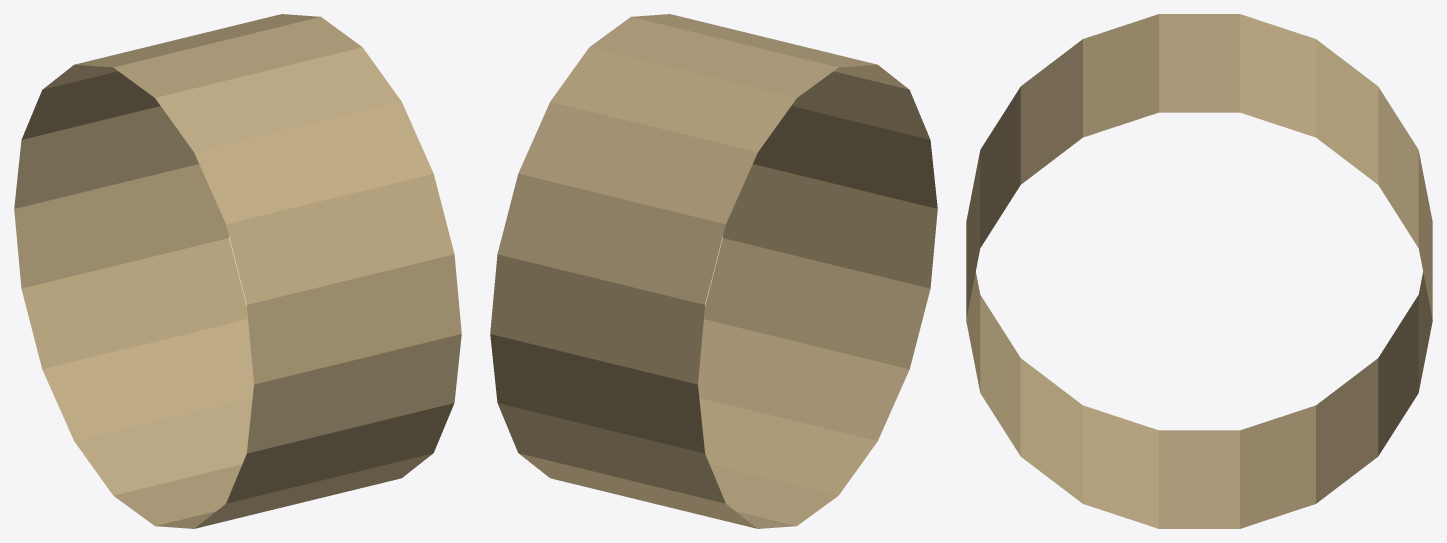
Rendered from Pipe_Large_Middle_3_Sewer_Environment.FBX.
3 views of the same model, side by side, from view 1: azimuth 30°, elevation 25°; view 2: azimuth 150°, elevation 25°; view 3: azimuth 270°, elevation 25° (orthographic). The views are drawn at different scales.
Visible parts, largest first — view 1: Pipe_Large_Middle_Sewer_Environment; view 2: Pipe_Large_Middle_Sewer_Environment; view 3: Pipe_Large_Middle_Sewer_Environment.
Part boxes in pixels (x1,y1,x2,y2): Pipe_Large_Middle_Sewer_Environment: [14, 14, 461, 528]; Pipe_Large_Middle_Sewer_Environment: [490, 14, 937, 528]; Pipe_Large_Middle_Sewer_Environment: [966, 14, 1432, 528].
Size of the model in its own units: 100 by 197 by 200.
